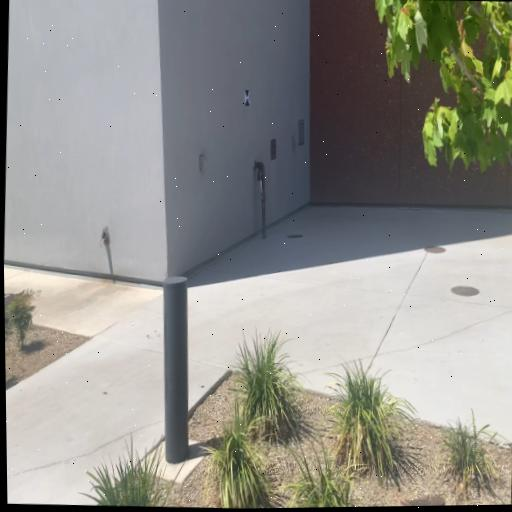target3: (244, 89, 250, 107)
